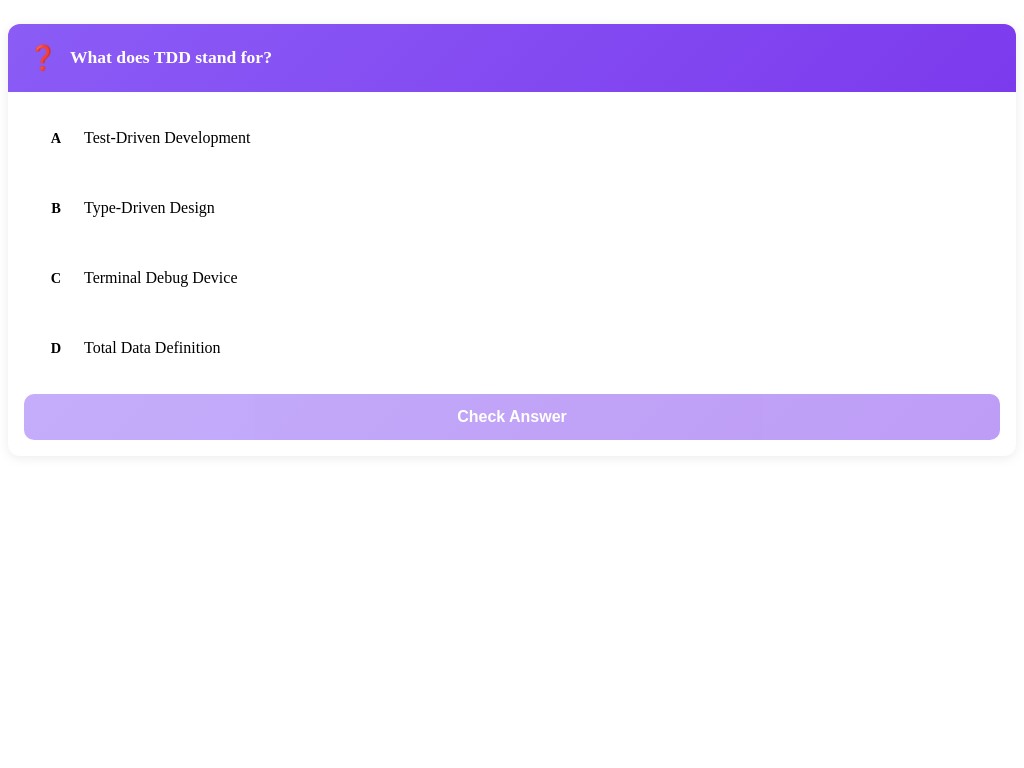
Scenario: Quiz Component › 🔴 RED: Interactive Features › should show incorrect feedback on wrong answer
The width and height of the screenshot is (1024, 768).
Click the text "Type-Driven Design". click: x=149, y=208
box: [84, 199, 215, 216]
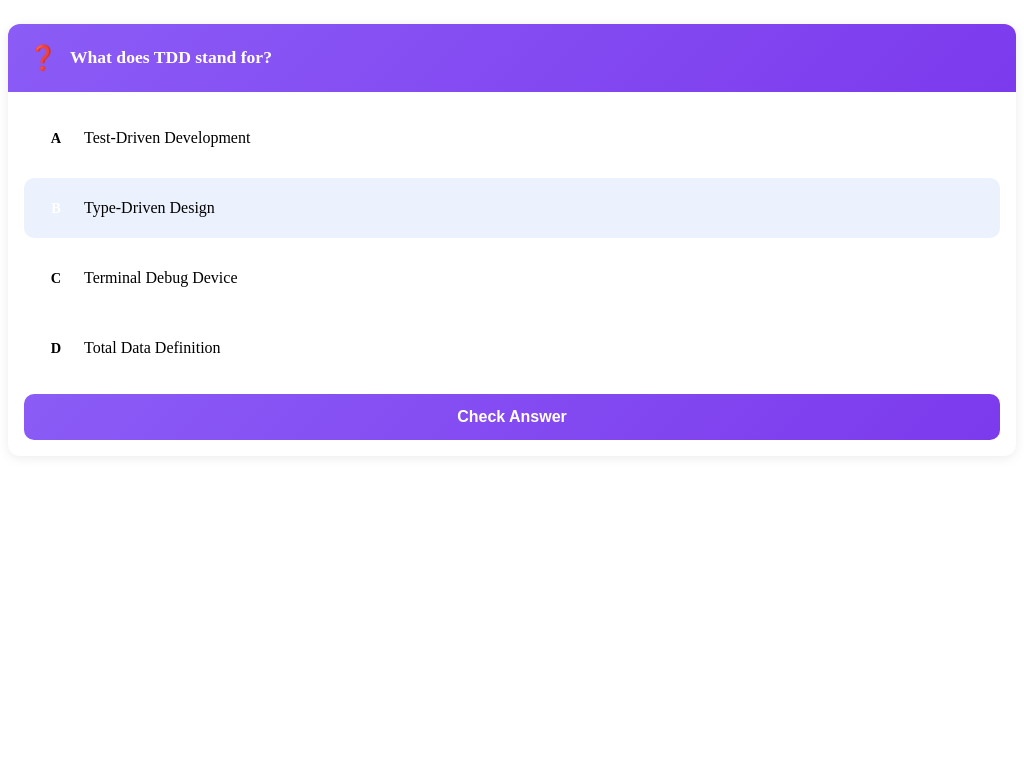
Click the button "Check Answer". click: x=512, y=417
box: [24, 394, 1000, 440]
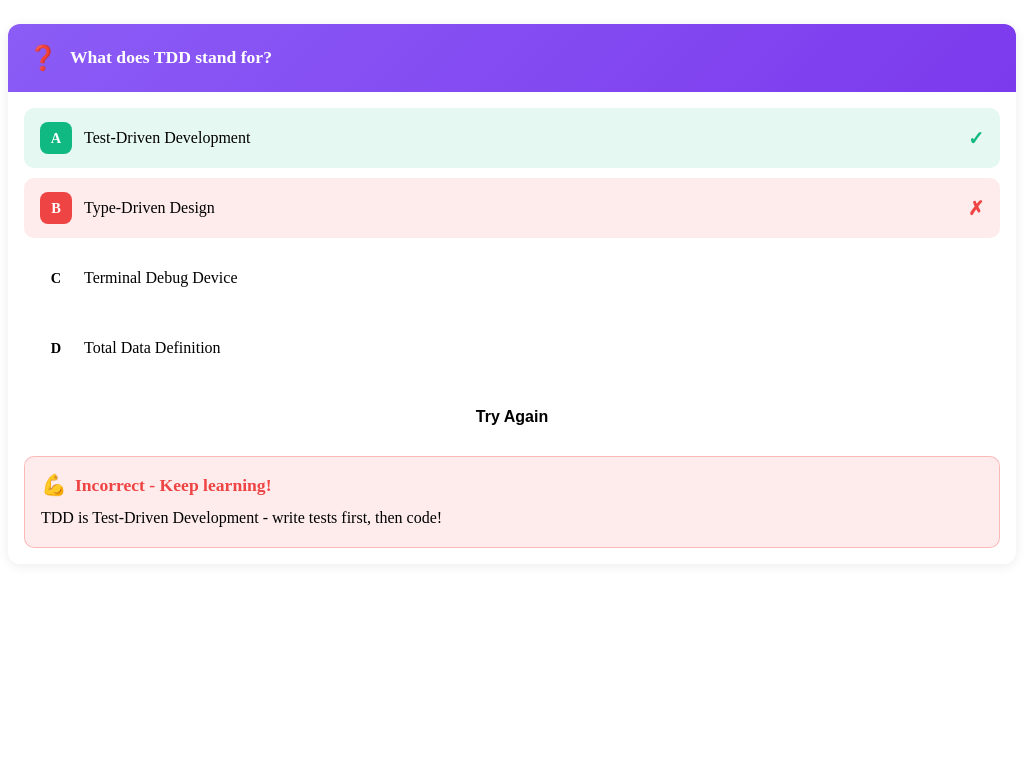
Check: the text "Incorrect - Keep learning!" is shown, box [75, 474, 272, 496]
